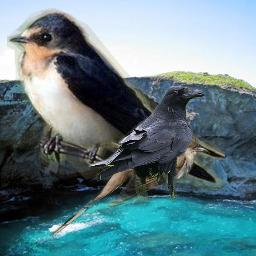Crow: (88, 86, 205, 200)
Cuckoo: (50, 135, 210, 238)
Swallow: (7, 8, 225, 191)
